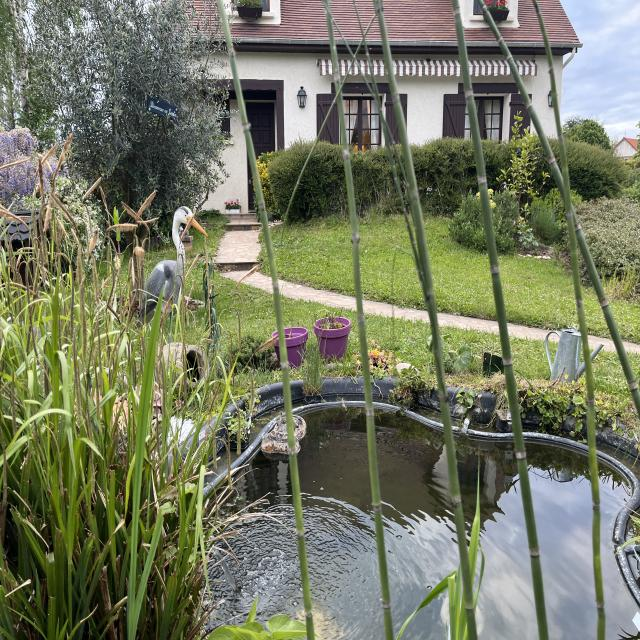Heron: (132, 198, 214, 374)
